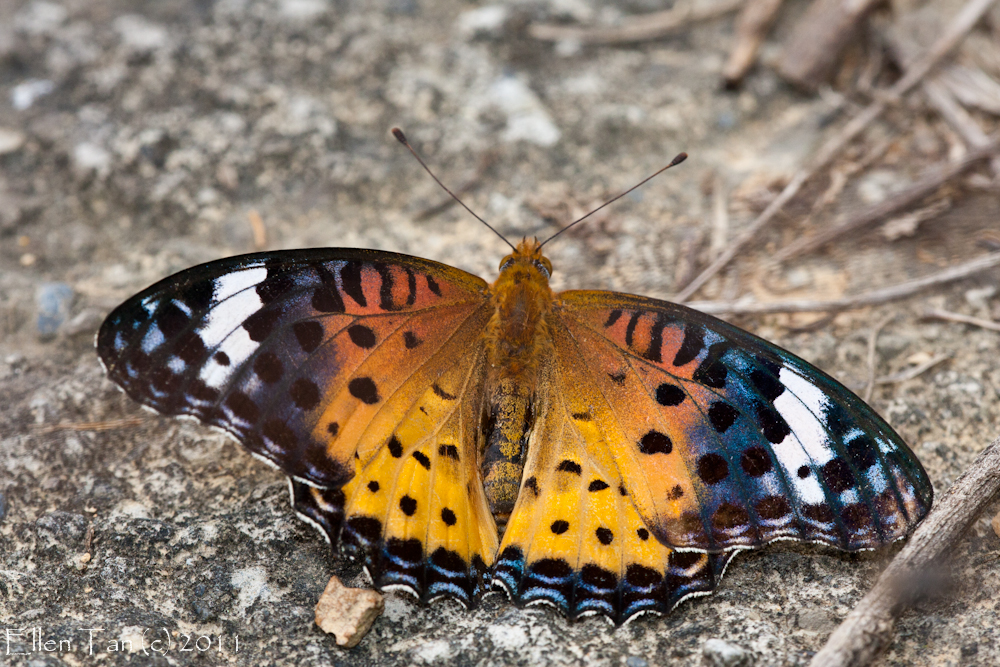Argyreus hyperbius: (86, 115, 939, 625)
butterfly: (88, 117, 941, 627)
